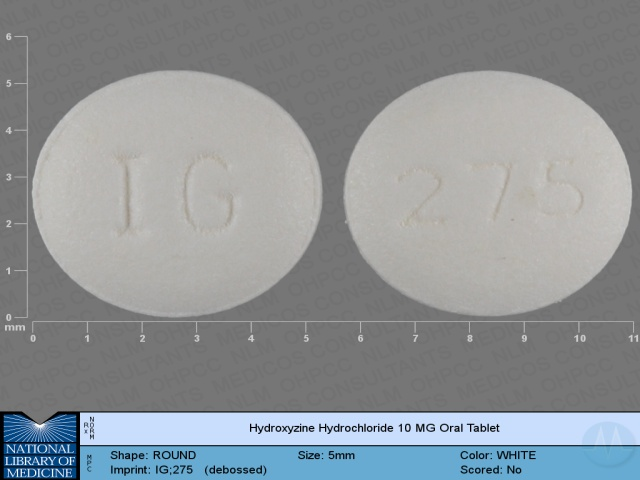2: (392, 162, 452, 230)
5: (534, 160, 589, 224)
7: (466, 157, 518, 225)
G: (180, 150, 241, 239)
I: (106, 150, 144, 245)
